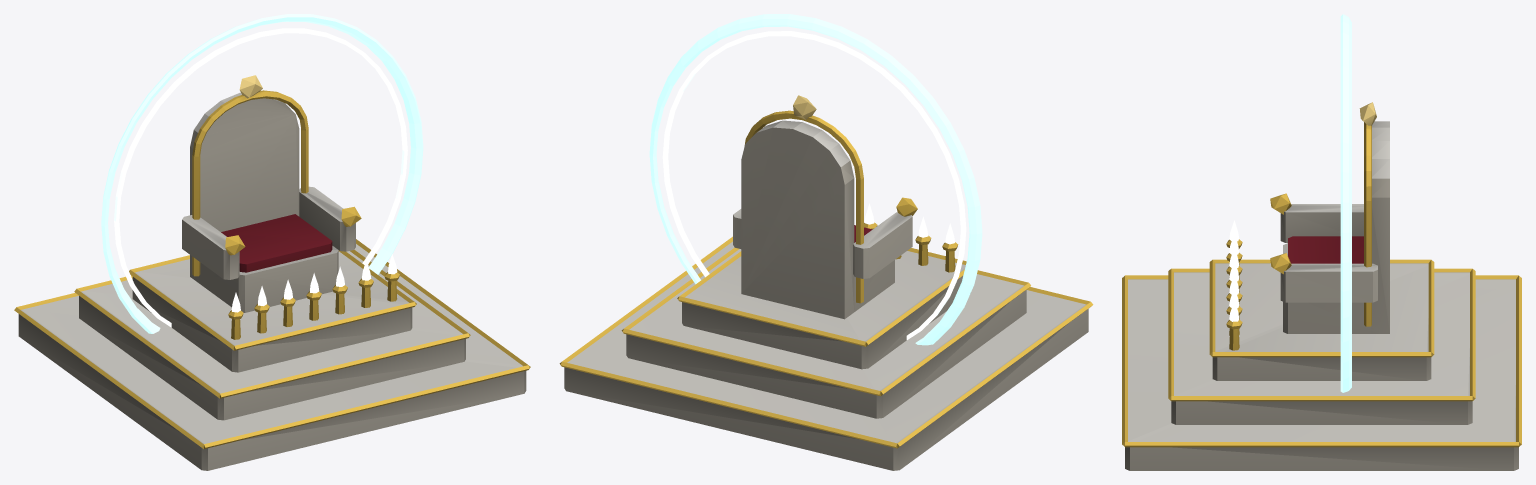
File: throne.glb
3 views of the same model, side by side, from view 1: azimuth 30°, elevation 25°; view 2: azimuth 150°, elevation 25°; view 3: azimuth 270°, elevation 25° (orthographic). The views are drawn at different scales.
Parts seen in each view (by area): view 1: base, rainbow_m, lamps_m; view 2: base, rainbow_m, lamps_m; view 3: base, rainbow_m, lamps_m.
Boxes of the visible parts, x1,y1,x2,y2 form: base: (14, 75, 530, 470); rainbow_m: (101, 14, 423, 333); lamps_m: (228, 254, 399, 339); base: (559, 95, 1093, 470); rainbow_m: (649, 14, 982, 345); lamps_m: (864, 203, 958, 272); base: (1122, 102, 1521, 470); rainbow_m: (1340, 14, 1351, 392); lamps_m: (1226, 220, 1242, 350).
Bounding box in the file's own units: 1.64 × 1.61 × 1.64.
